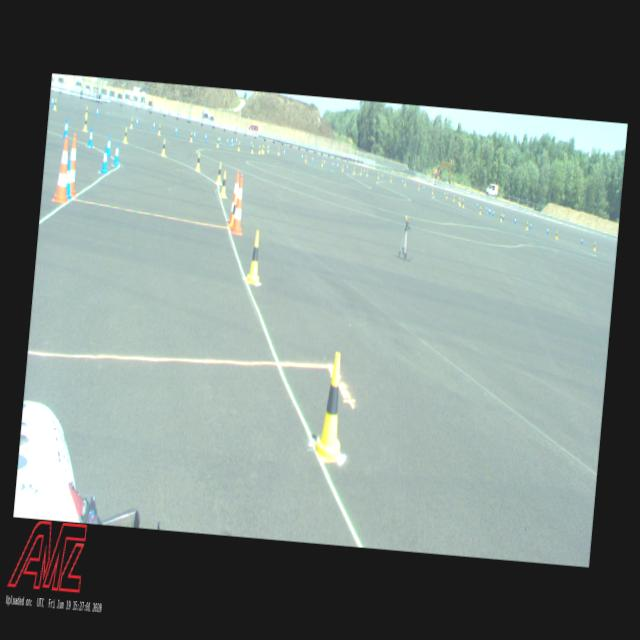blue_cone: (64, 158, 74, 200), (100, 144, 109, 174), (113, 140, 121, 166), (87, 126, 94, 147), (106, 134, 112, 156), (62, 118, 68, 138), (135, 116, 139, 128), (50, 95, 54, 106), (152, 120, 156, 130), (175, 124, 178, 136), (96, 106, 99, 117), (193, 130, 196, 140), (204, 132, 207, 142), (528, 222, 532, 229), (218, 135, 221, 144), (513, 216, 516, 225), (226, 136, 229, 144), (230, 136, 233, 144), (235, 136, 238, 144), (580, 236, 583, 244), (491, 208, 494, 215), (502, 212, 504, 221), (546, 226, 548, 235), (283, 148, 285, 156), (488, 207, 490, 215), (485, 204, 487, 212), (266, 144, 268, 151), (487, 206, 489, 213), (250, 140, 252, 146)
large_orange_cone: (52, 135, 72, 203), (230, 174, 247, 235), (66, 133, 80, 197), (228, 170, 240, 225)
yellow_cone: (313, 350, 350, 462), (244, 229, 264, 285), (228, 194, 236, 228), (220, 170, 228, 197), (216, 162, 223, 184), (194, 152, 202, 170), (160, 138, 167, 156), (82, 114, 89, 132), (123, 126, 128, 142), (53, 98, 58, 110), (130, 116, 134, 128), (158, 124, 162, 135), (85, 105, 88, 116), (260, 144, 264, 152), (554, 230, 558, 238), (216, 137, 219, 147), (499, 212, 502, 222), (525, 220, 528, 230), (237, 141, 240, 150), (250, 144, 253, 153), (478, 206, 481, 214), (277, 147, 280, 155), (593, 242, 596, 250), (190, 131, 192, 142), (258, 144, 260, 154), (262, 146, 264, 154), (268, 145, 270, 152)
